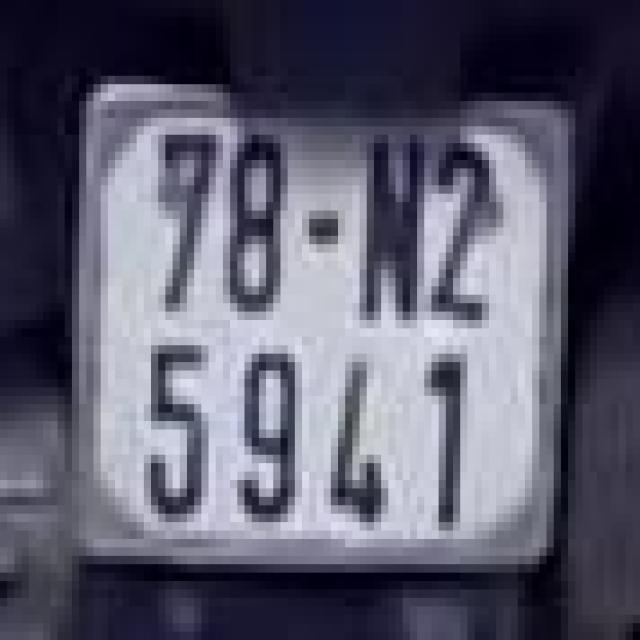1: (410, 341, 489, 552)
2: (428, 118, 500, 337)
4: (320, 337, 392, 530)
5: (140, 328, 220, 530)
7: (148, 114, 220, 316)
8: (220, 118, 292, 320)
9: (233, 337, 306, 539)
N: (352, 126, 424, 328)
